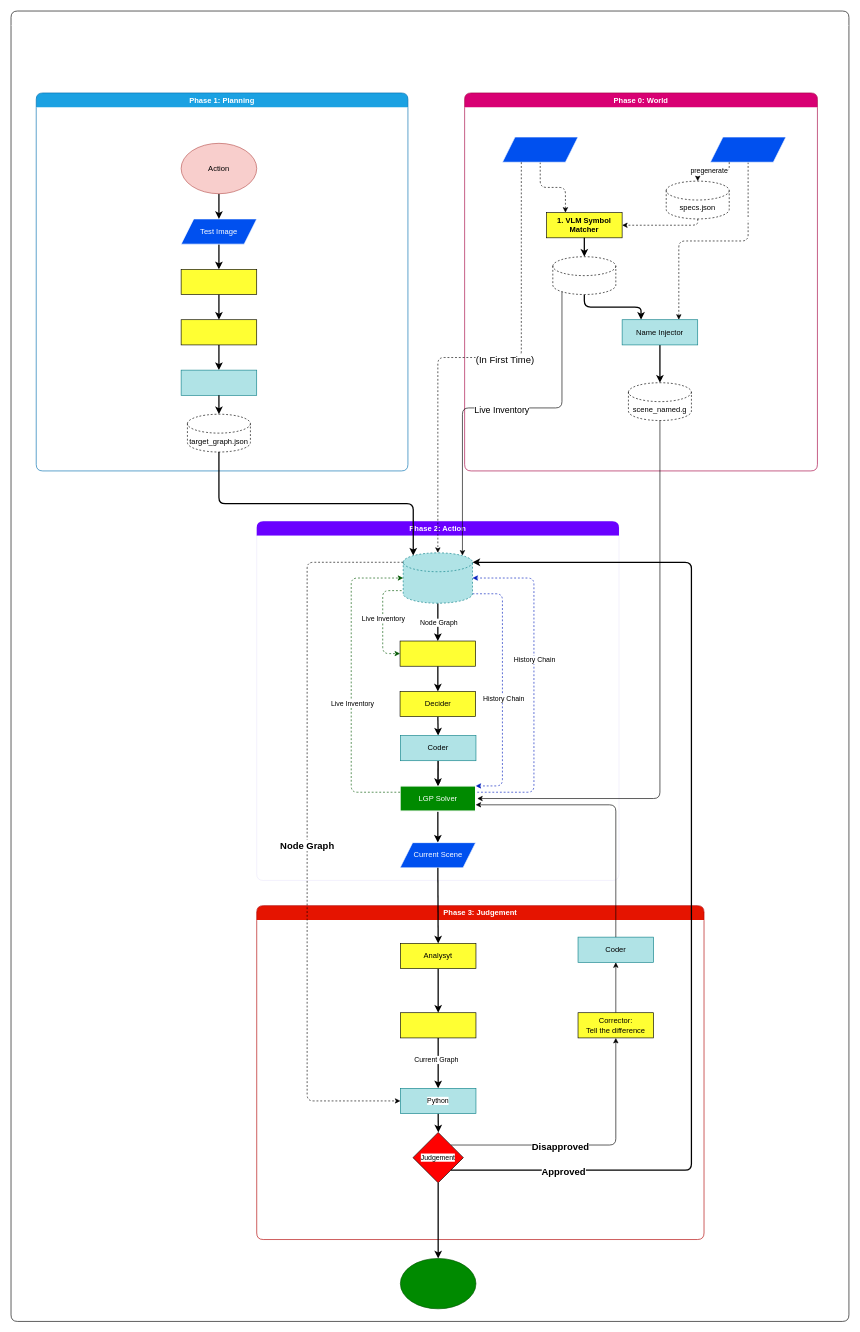
The diagram is 860 pixels wide and 1332 high, and some of its shapes have lost their labels. The shapes that lost their labels are listed below. From the top down, each one's box as (x1, y1, x2, y2) in pixels, then its label:
(502, 136, 578, 162): Initial Scene
(710, 136, 786, 162): Unamed.g
(180, 269, 257, 295): Analyst
(552, 256, 616, 295): layout.json (ID Mapping)
(180, 319, 257, 345): Structurizer
(180, 369, 257, 395): Validator
(403, 552, 472, 603): Driver memory
(399, 640, 476, 666): Strategist
(400, 1012, 476, 1038): Current Graph Generating
(400, 1258, 476, 1309): Finished
